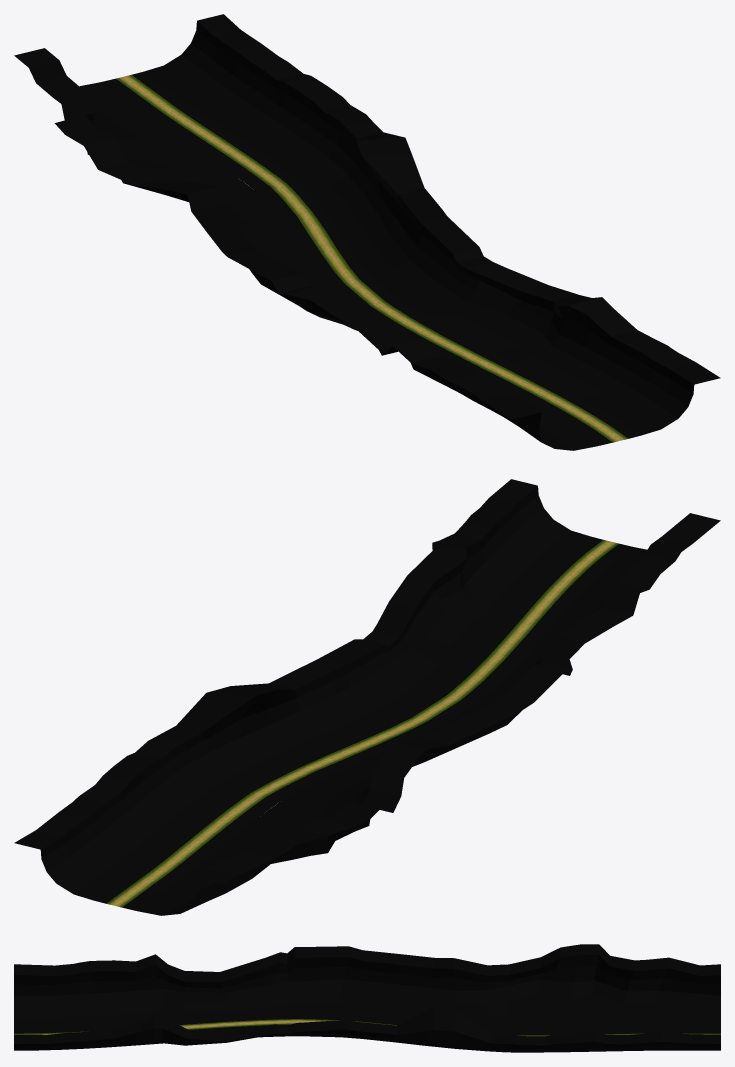
Rendered from street_1.fbx.
3 views of the same model, one above another, from view 1: azimuth 30°, elevation 25°; view 2: azimuth 150°, elevation 25°; view 3: azimuth 270°, elevation 25° (orthographic). The views are drawn at different scales.
Visible parts, largest first — view 1: polySurface2926, floor; view 2: polySurface2926, floor; view 3: polySurface2926, floor.
Part boxes in pixels (x1,y1,x2,y2): polySurface2926: [14, 14, 720, 450]; floor: [116, 75, 628, 442]; polySurface2926: [14, 479, 720, 915]; floor: [106, 540, 618, 907]; polySurface2926: [14, 944, 720, 1052]; floor: [14, 1019, 720, 1036].
Size of the model in its own units: 23190 by 5226 by 76200.
